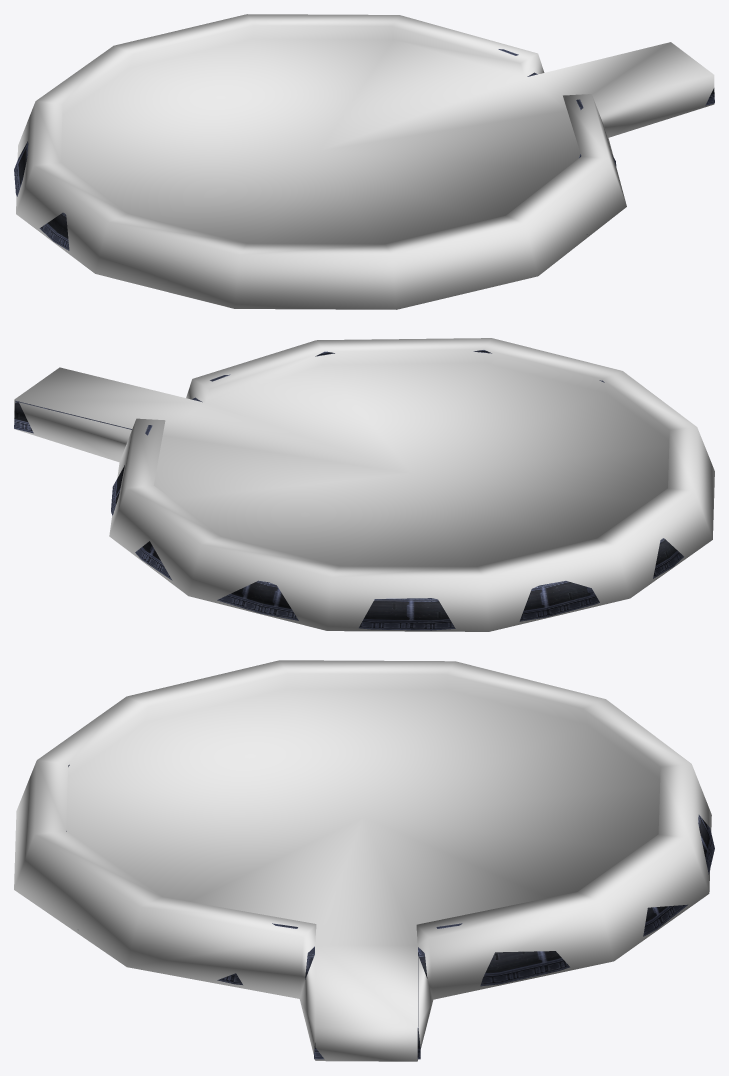
The model's file is Disck_Landing_Large.fbx.
3 views of the same model, one above another, from view 1: azimuth 30°, elevation 25°; view 2: azimuth 150°, elevation 25°; view 3: azimuth 270°, elevation 25° (orthographic). The views are drawn at different scales.
Visible parts, largest first — view 1: Disk_Landing_LargeCOLLMESH, Disc_Landing_Large; view 2: Disk_Landing_LargeCOLLMESH, Disc_Landing_Large; view 3: Disk_Landing_LargeCOLLMESH, Disc_Landing_Large.
Part boxes in pixels (x1,y1,x2,y2): Disk_Landing_LargeCOLLMESH: (16, 14, 714, 309); Disc_Landing_Large: (14, 49, 714, 250); Disk_Landing_LargeCOLLMESH: (14, 338, 714, 631); Disc_Landing_Large: (14, 350, 683, 630); Disk_Landing_LargeCOLLMESH: (14, 660, 711, 1061); Disc_Landing_Large: (66, 764, 714, 1059).
Bounding box in the file's own units: 2232 × 294 × 1845.
